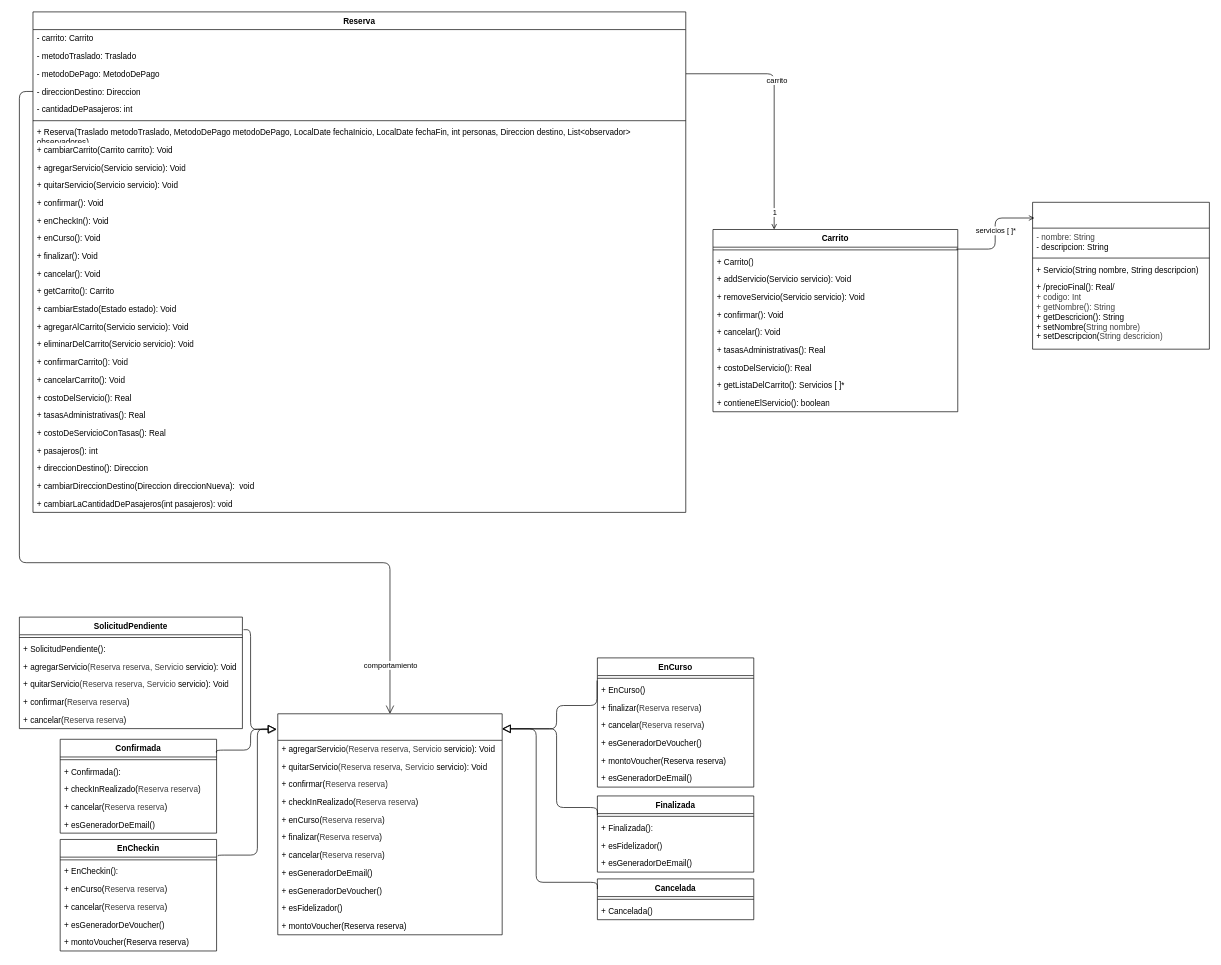
The diagram is 1221 pixels wide and 965 high, and some of its shapes have lost their labels. The box of each missing label's shape, as (x1, y1, x2, y2) in pixels:
<< abstract >> Estado: (277, 713, 502, 935)
<< abstract >> Servicio: (1032, 202, 1209, 349)
